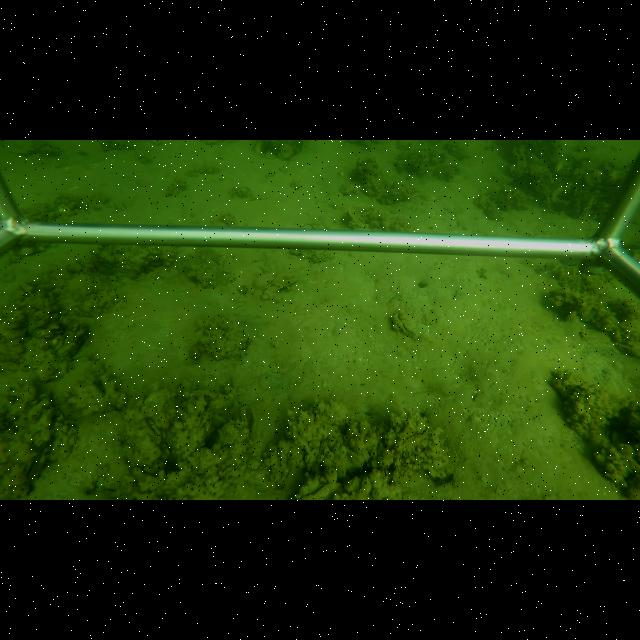Oyster-Closed: (393, 308, 417, 337), (56, 340, 76, 356), (278, 140, 294, 160), (344, 208, 360, 224), (318, 439, 328, 455), (332, 440, 342, 456)
Oyster-Open: (238, 405, 258, 439)
